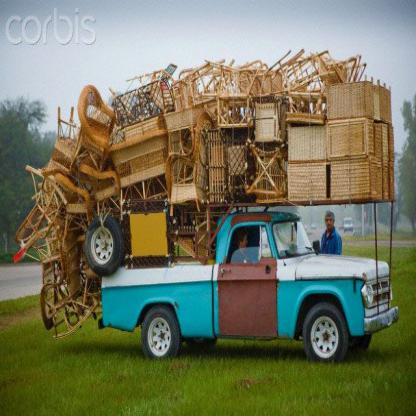overloaded-truck: (15, 49, 397, 352)
